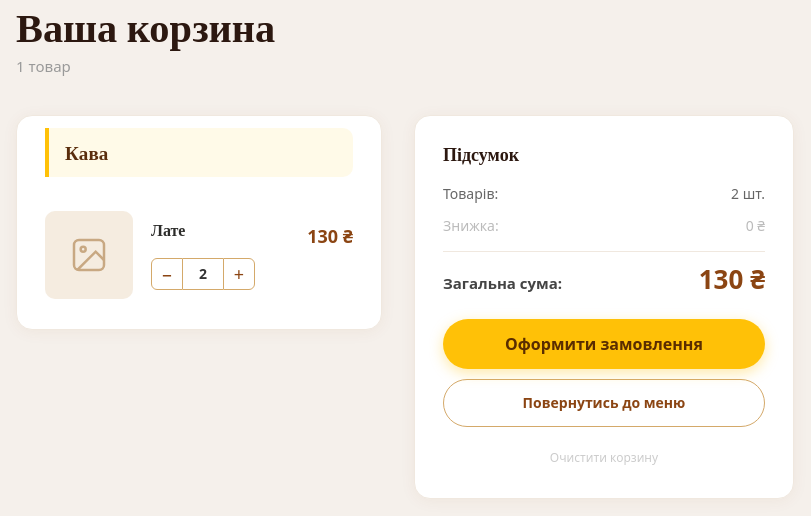
Test: CartPage › sends only the new quantity — the price comes back from the server
Click the button named "Збільшити" at x=239, y=274, box [223,258,255,290]
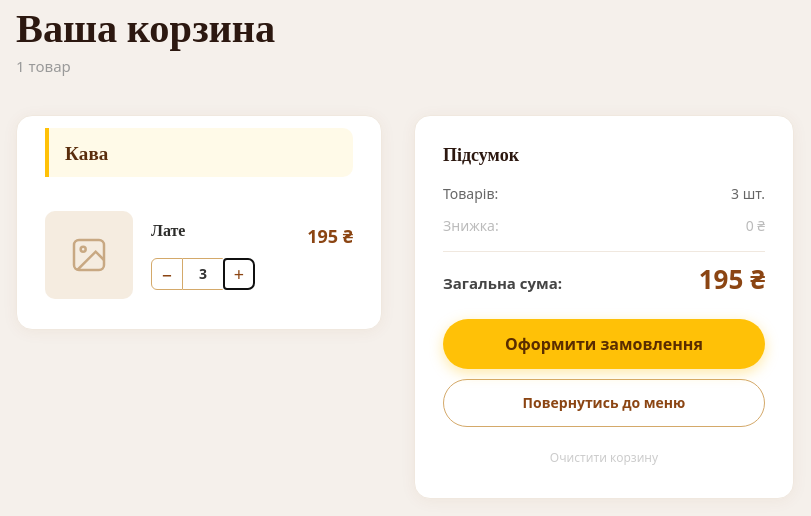
Check: the number field named "Кількість товару" holds "3", box [183,258,223,290]
Check: the text "195 ₴" next to "Загальна сума:" is shown, box [699,261,765,297]
